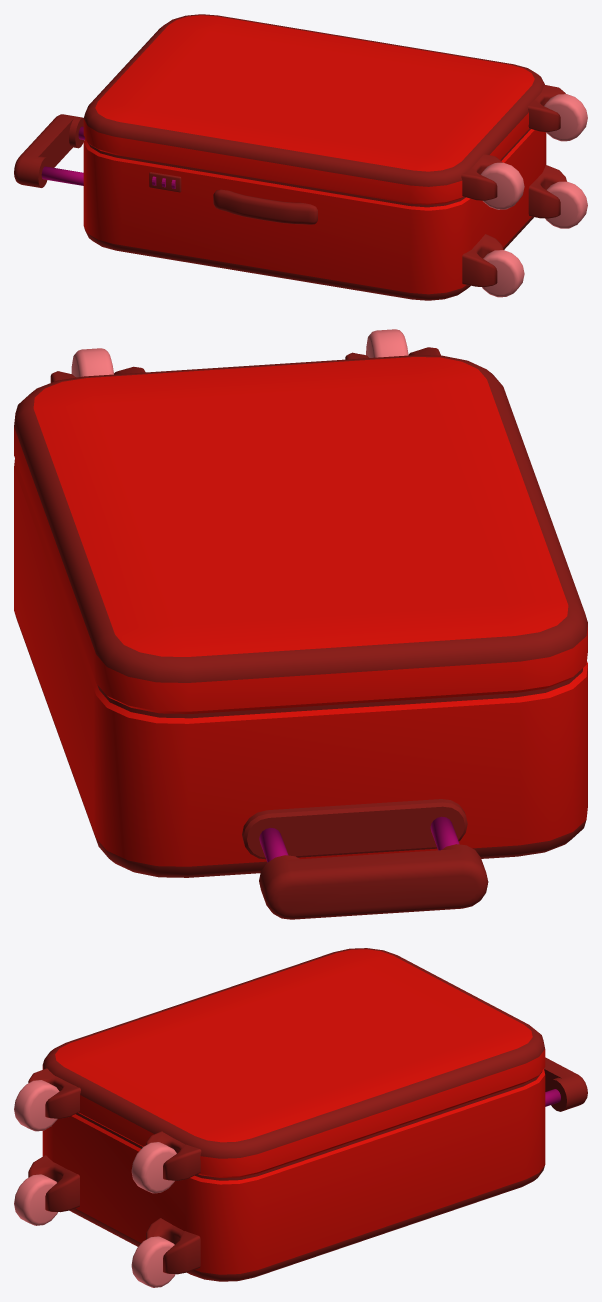
Rendered from DummyLuggage.fbx.
3 views of the same model, one above another, from view 1: azimuth 30°, elevation 25°; view 2: azimuth 150°, elevation 25°; view 3: azimuth 270°, elevation 25° (orthographic). The views are drawn at different scales.
Visible parts, largest first — view 1: dummyluggage06.001; view 2: dummyluggage06.001; view 3: dummyluggage06.001.
Boxes of the visible parts, x1,y1,x2,y2 form: dummyluggage06.001: (14,14,587,300); dummyluggage06.001: (14,329,587,919); dummyluggage06.001: (14,948,587,1287).
Bounding box in the file's own units: 2.54 × 0.7828 × 2.88.
1 material, 1 textured.
